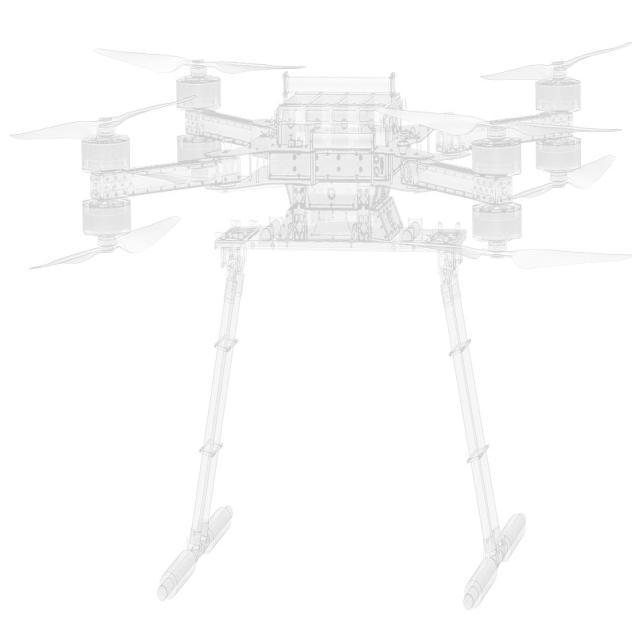drone: (33, 32, 640, 328)
